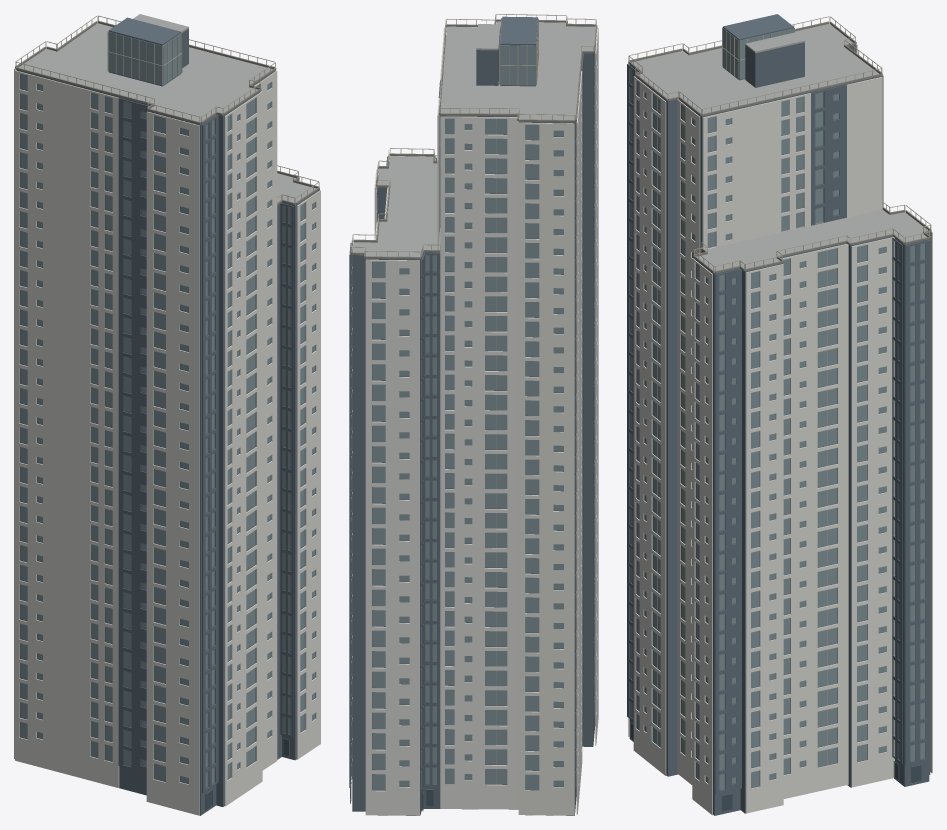
Rendered from bespoke-raemian-onebailey-119.glb.
The picture shows the model from 3 angles, left to right: view 1: azimuth 30°, elevation 25°; view 2: azimuth 150°, elevation 25°; view 3: azimuth 270°, elevation 25°; orthographic projection. The views are drawn at different scales.
Visible parts, largest first — view 1: 119_pale_bays_navy_shafts_5, 119_pale_bays_navy_shafts_1, 119_pale_bays_navy_shafts_4, 119_editable_massing, 119_glass_roof_crown_4, 119_glass_roof_crown_1, 119_glass_roof_crown_2, 119_pale_bays_navy_shafts_3, 119_glass_roof_crown_3; view 2: 119_pale_bays_navy_shafts_5, 119_pale_bays_navy_shafts_1, 119_editable_massing, 119_glass_roof_crown_4, 119_pale_bays_navy_shafts_4, 119_glass_roof_crown_1, 119_glass_roof_crown_2, 119_glass_roof_crown_3, 119_pale_bays_navy_shafts_3; view 3: 119_pale_bays_navy_shafts_5, 119_pale_bays_navy_shafts_1, 119_pale_bays_navy_shafts_4, 119_editable_massing, 119_glass_roof_crown_4, 119_glass_roof_crown_1, 119_glass_roof_crown_2, 119_pale_bays_navy_shafts_3, 119_glass_roof_crown_3, 119_pale_bays_navy_shafts_2.
Boxes of the visible parts, x1,y1,x2,y2 form: 119_pale_bays_navy_shafts_5: (14, 25, 320, 815); 119_pale_bays_navy_shafts_1: (20, 31, 314, 787); 119_pale_bays_navy_shafts_4: (118, 98, 319, 792); 119_editable_massing: (16, 29, 318, 815); 119_glass_roof_crown_4: (19, 14, 316, 205); 119_glass_roof_crown_1: (15, 21, 319, 205); 119_glass_roof_crown_2: (15, 15, 319, 202); 119_pale_bays_navy_shafts_3: (107, 31, 250, 764); 119_glass_roof_crown_3: (108, 17, 181, 45); 119_pale_bays_navy_shafts_5: (365, 21, 598, 815); 119_pale_bays_navy_shafts_1: (351, 18, 595, 790); 119_editable_massing: (352, 28, 595, 815); 119_glass_roof_crown_4: (352, 22, 595, 259); 119_pale_bays_navy_shafts_4: (349, 26, 583, 792); 119_glass_roof_crown_1: (350, 19, 597, 259); 119_glass_roof_crown_2: (351, 14, 596, 256); 119_glass_roof_crown_3: (500, 16, 537, 45); 119_pale_bays_navy_shafts_3: (496, 18, 538, 784); 119_pale_bays_navy_shafts_5: (628, 24, 932, 815); 119_pale_bays_navy_shafts_1: (631, 28, 925, 790); 119_pale_bays_navy_shafts_4: (627, 48, 930, 793); 119_editable_massing: (629, 42, 930, 815); 119_glass_roof_crown_4: (631, 24, 927, 273); 119_glass_roof_crown_1: (628, 21, 931, 273); 119_glass_roof_crown_2: (628, 16, 931, 271); 119_pale_bays_navy_shafts_3: (657, 27, 827, 765); 119_glass_roof_crown_3: (723, 14, 793, 40); 119_pale_bays_navy_shafts_2: (630, 722, 921, 811).
Size of the model in its own units: 38.66 by 110 by 42.31.
